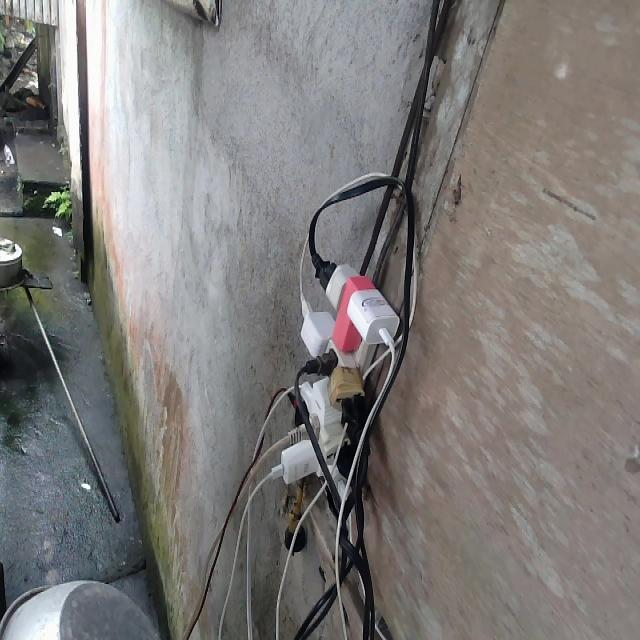-: (267, 252, 400, 499)
